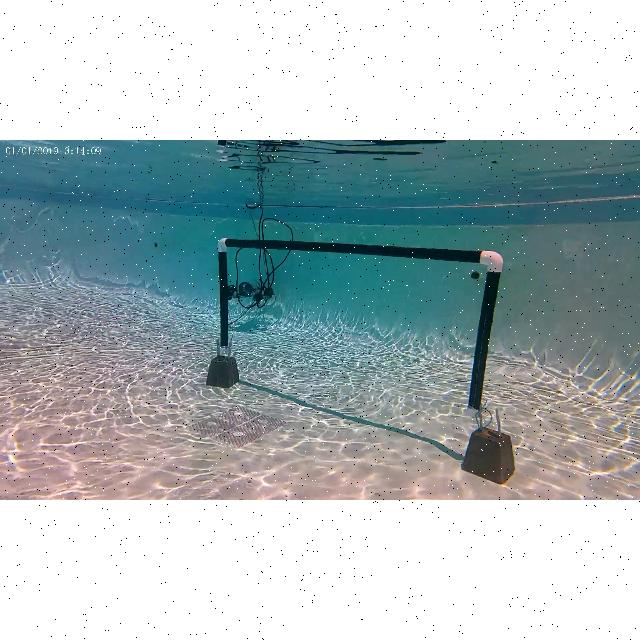prequal gate: (218, 237, 502, 418)
prequal gate leg l: (210, 235, 237, 359)
prequal gate leg r: (465, 244, 507, 423)
